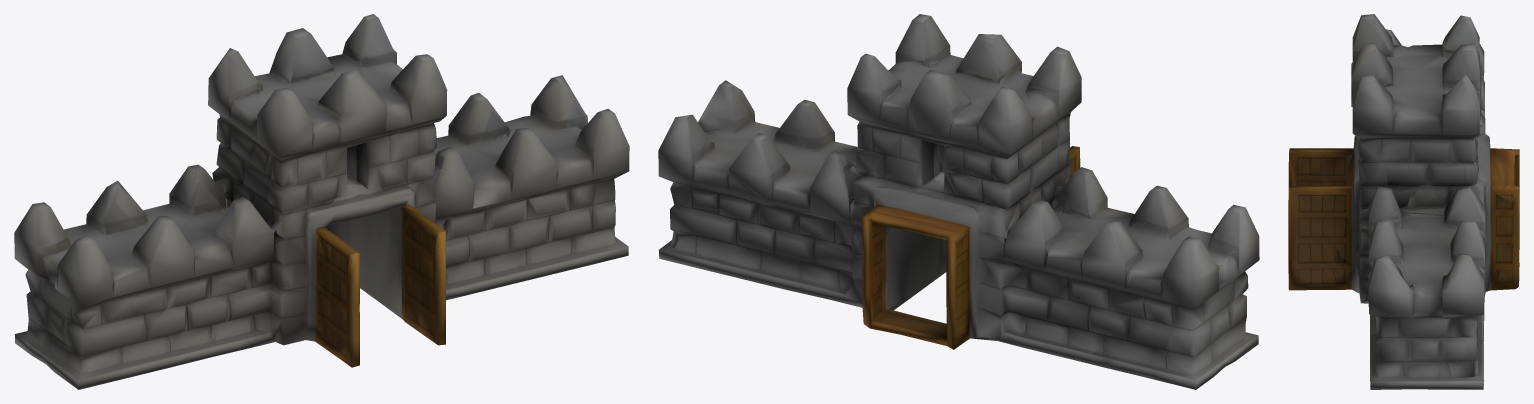
File: wallDoor.fbx
The picture shows the model from 3 angles, left to right: view 1: azimuth 30°, elevation 25°; view 2: azimuth 150°, elevation 25°; view 3: azimuth 270°, elevation 25°; orthographic projection. The views are drawn at different scales.
Parts seen in each view (by area): view 1: input; view 2: input; view 3: input.
Part boxes in pixels (x1=…): input: x1=14, y1=14, x2=629, y2=389; input: x1=658, y1=14, x2=1259, y2=389; input: x1=1288, y1=14, x2=1519, y2=389.
Bounding box in the file's own units: 2290 × 1000 × 934.
1 material, 1 textured.
